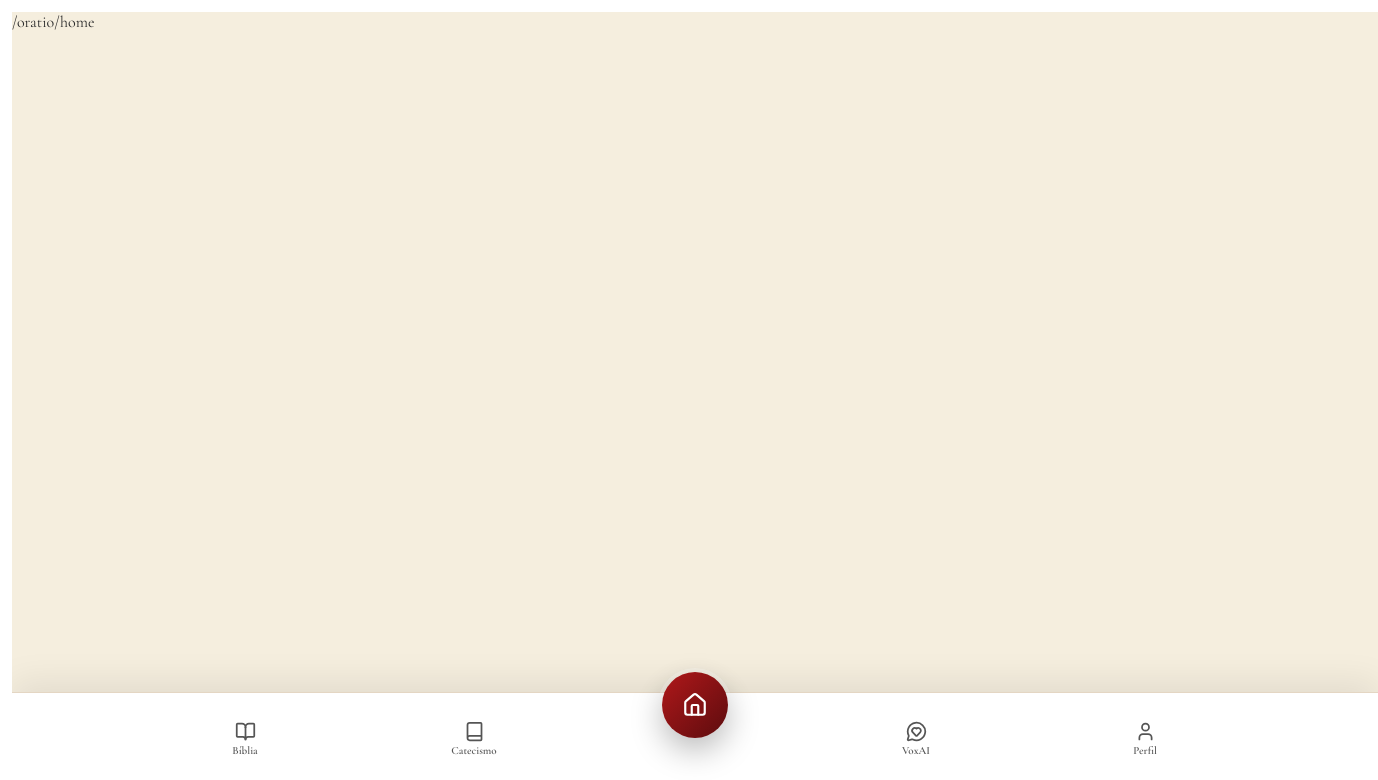
BottomNavbar › navigates directly for an unlocked item, even as a guest
Click the button with aria-label "Abrir Bíblia".
click(245, 738)  # box [211,715,279,762]
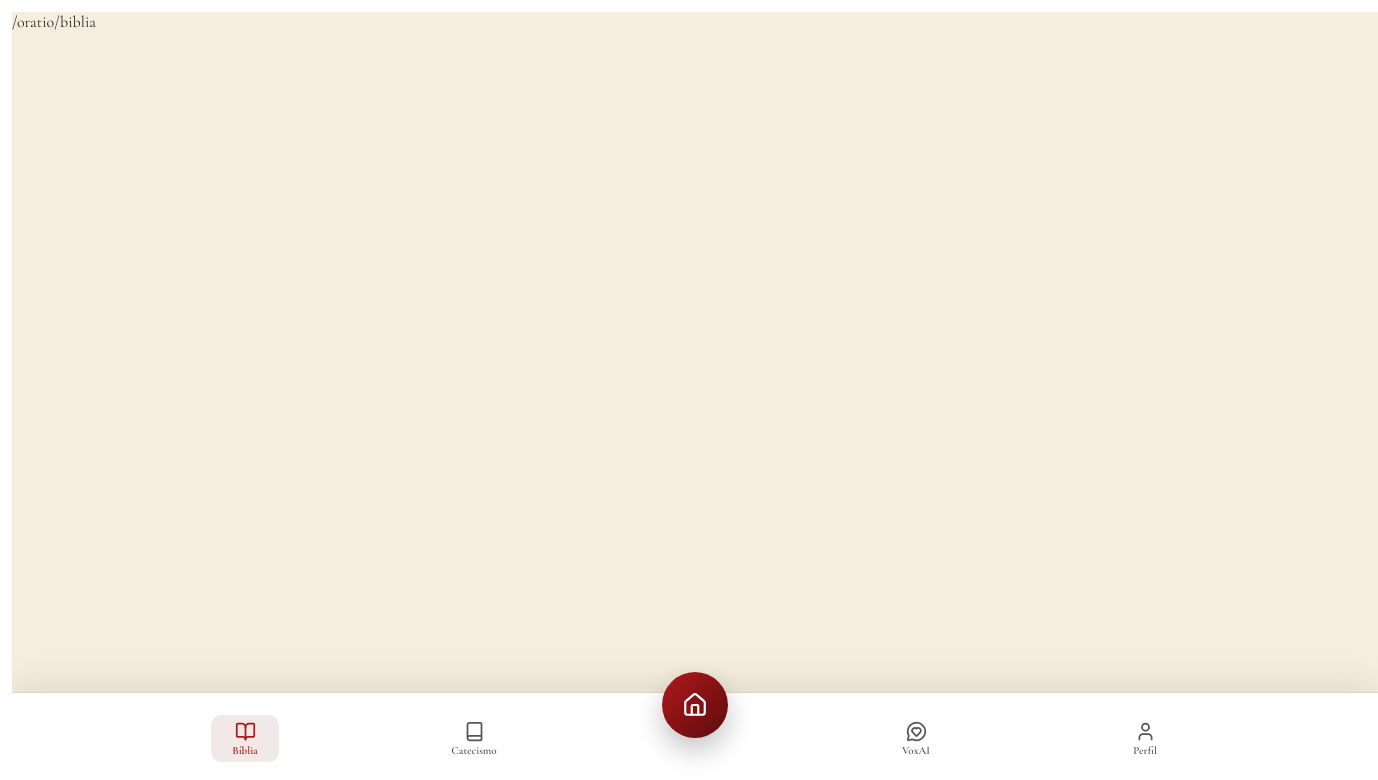
Expected: the text with test id "location" reads "/oratio/biblia", [12,12,96,32]
